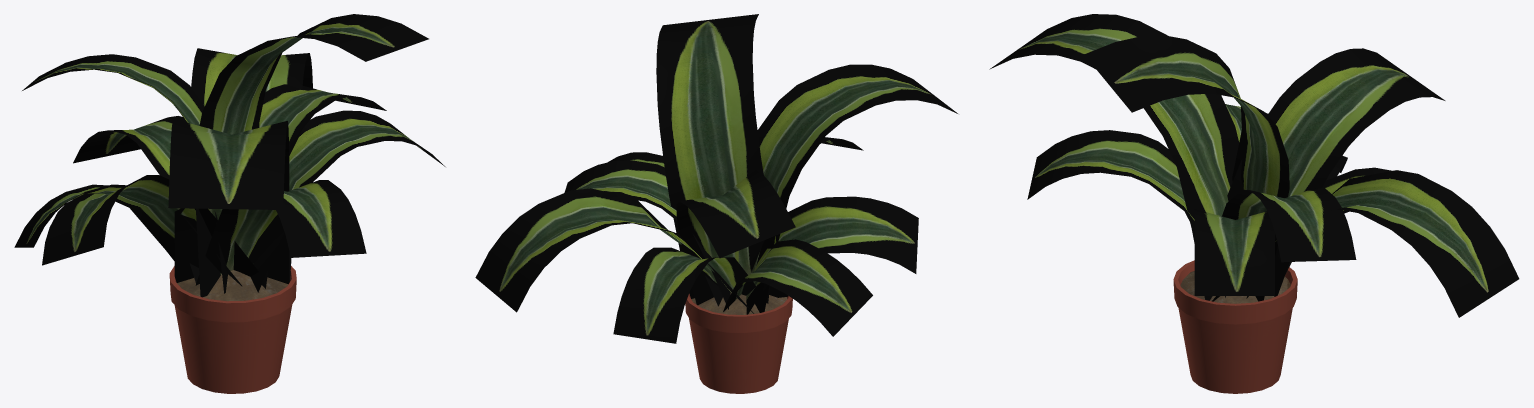
Rendered from plant.obj.
3 renders of one model, left to right at view 1: azimuth 30°, elevation 25°; view 2: azimuth 150°, elevation 25°; view 3: azimuth 270°, elevation 25°, orthographic. The views are drawn at different scales.
Visible parts, largest first — view 1: polySurface8; view 2: polySurface8; view 3: polySurface8.
Boxes of the visible parts, x1,y1,x2,y2 form: polySurface8: (14,14,445,393); polySurface8: (475,14,957,393); polySurface8: (989,14,1519,393).
Bounding box in the file's own units: 39.59 × 34.88 × 47.5.
1 material, 1 textured.
